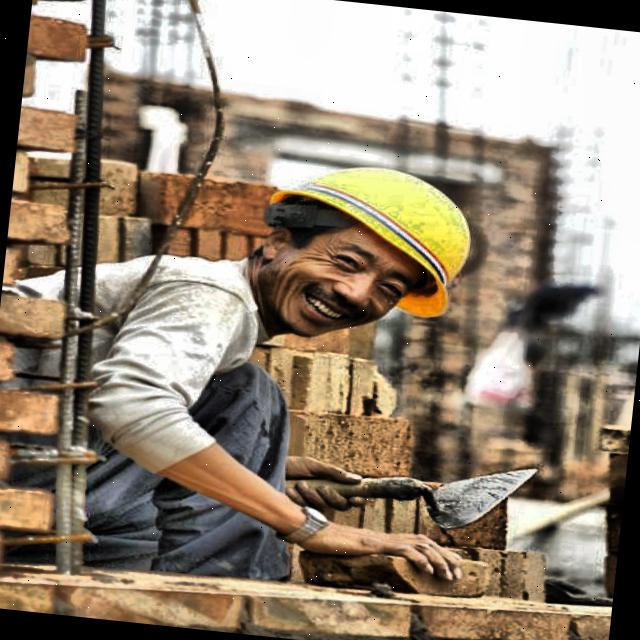helmet: (223, 136, 508, 352)
